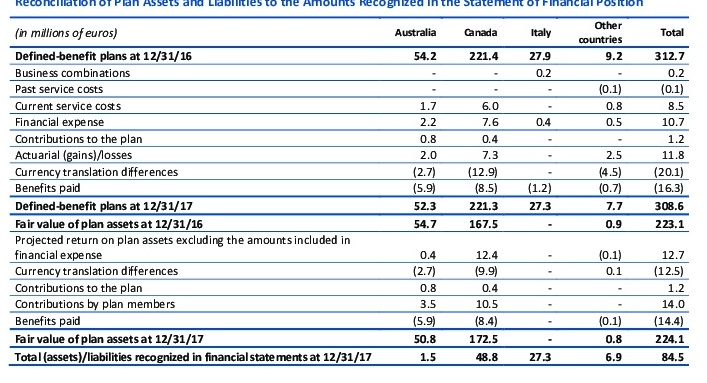table: (0, 0, 707, 383)
